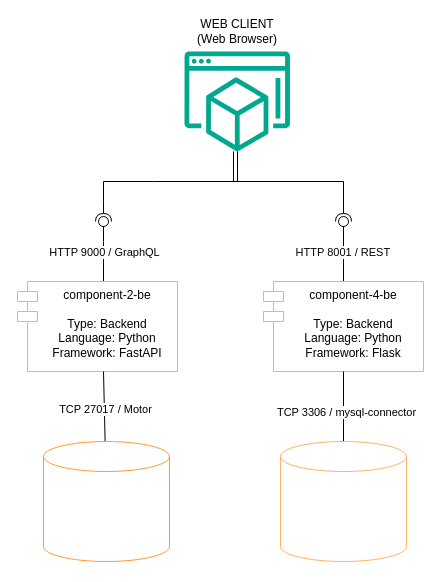
This 441x582 diagram has some shape labels left out. The box of each missing label's shape, as (x1, y1, x2, y2) in pixels:
component-1-db Type: Non relational database DB engine: Mongo: (42, 440, 170, 562)
component-4-db Type: Relational database DB engine: MySQL: (280, 440, 406, 562)
